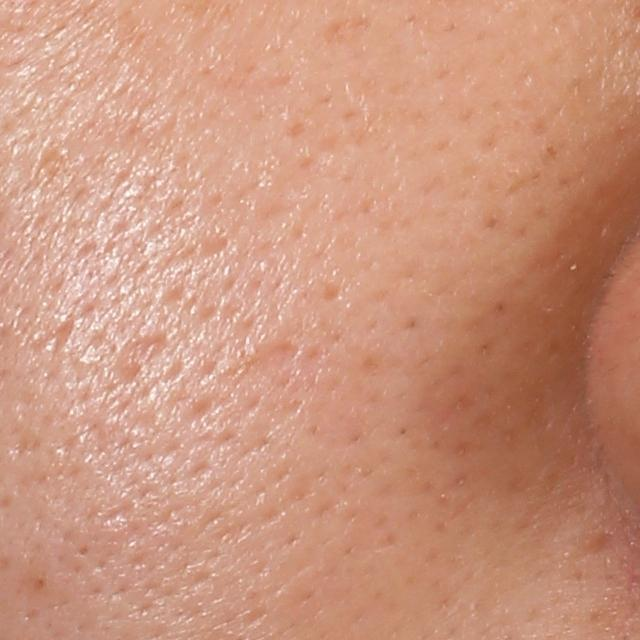atrophic_scar: (112, 331, 167, 387), (243, 341, 301, 377), (31, 316, 75, 358)
